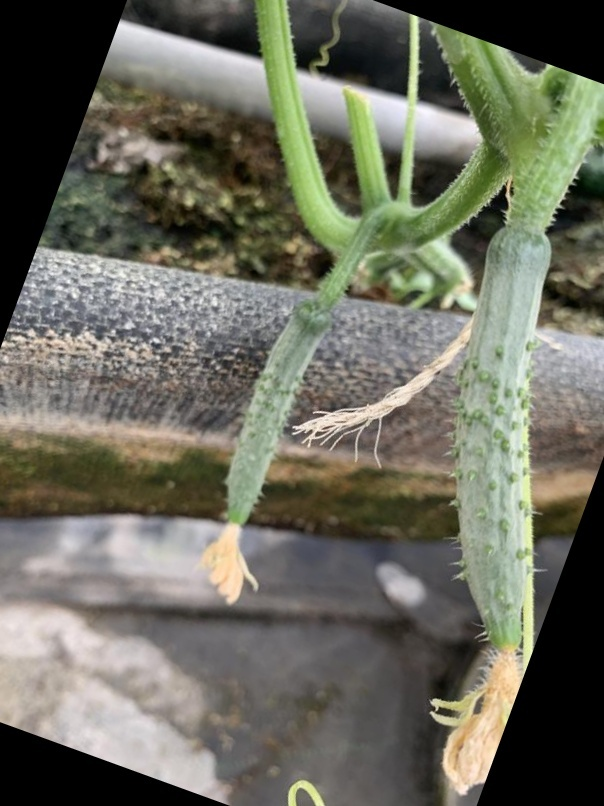bear: (194, 299, 339, 594)
growth: (445, 218, 562, 673), (201, 296, 338, 593)
